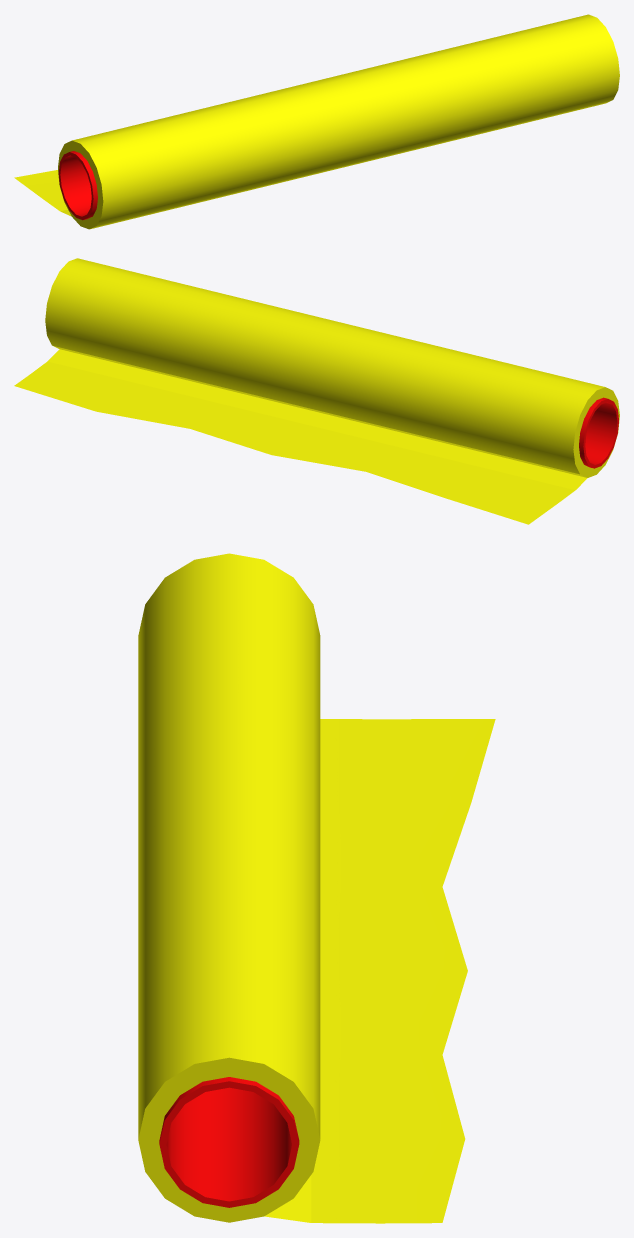
The model's file is aluminum_foil_grp.fbx.
3 renders of one model, top to bottom at view 1: azimuth 30°, elevation 25°; view 2: azimuth 150°, elevation 25°; view 3: azimuth 270°, elevation 25°, orthographic. The views are drawn at different scales.
Visible parts, largest first — view 1: aluminum_foil_1; view 2: aluminum_foil_1; view 3: aluminum_foil_1.
Boxes of the visible parts, box(x1,y1,x2,y2) form: aluminum_foil_1: box(14, 14, 619, 229); aluminum_foil_1: box(14, 258, 619, 524); aluminum_foil_1: box(138, 553, 495, 1223).
Size of the model in its own units: 22.68 by 3.42 by 6.68.
